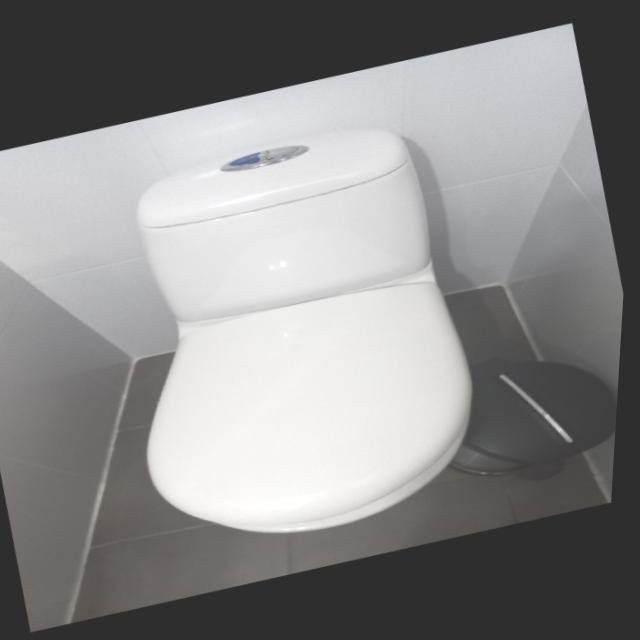toilet: (78, 100, 518, 569)
